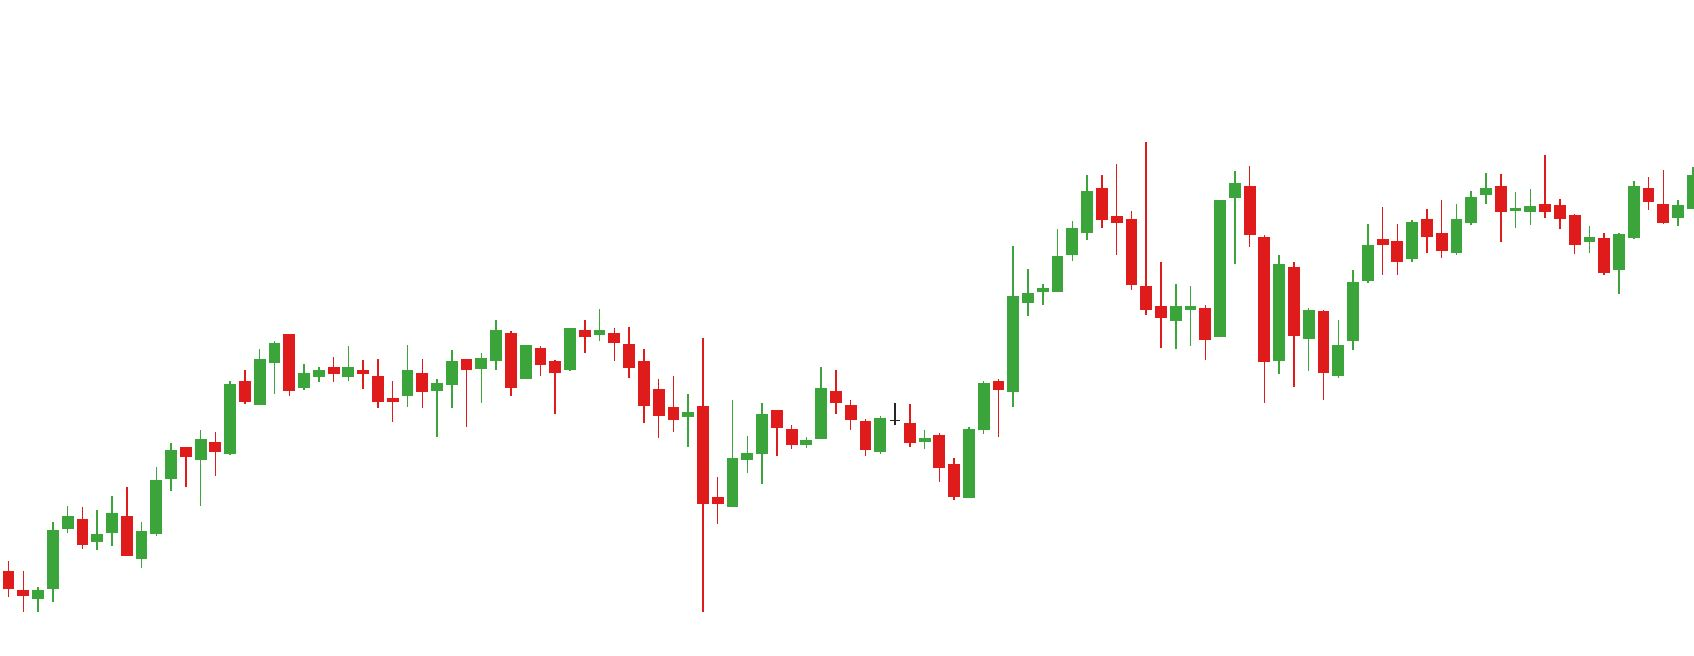buy: (1170, 268, 1285, 399), (860, 411, 979, 503)
